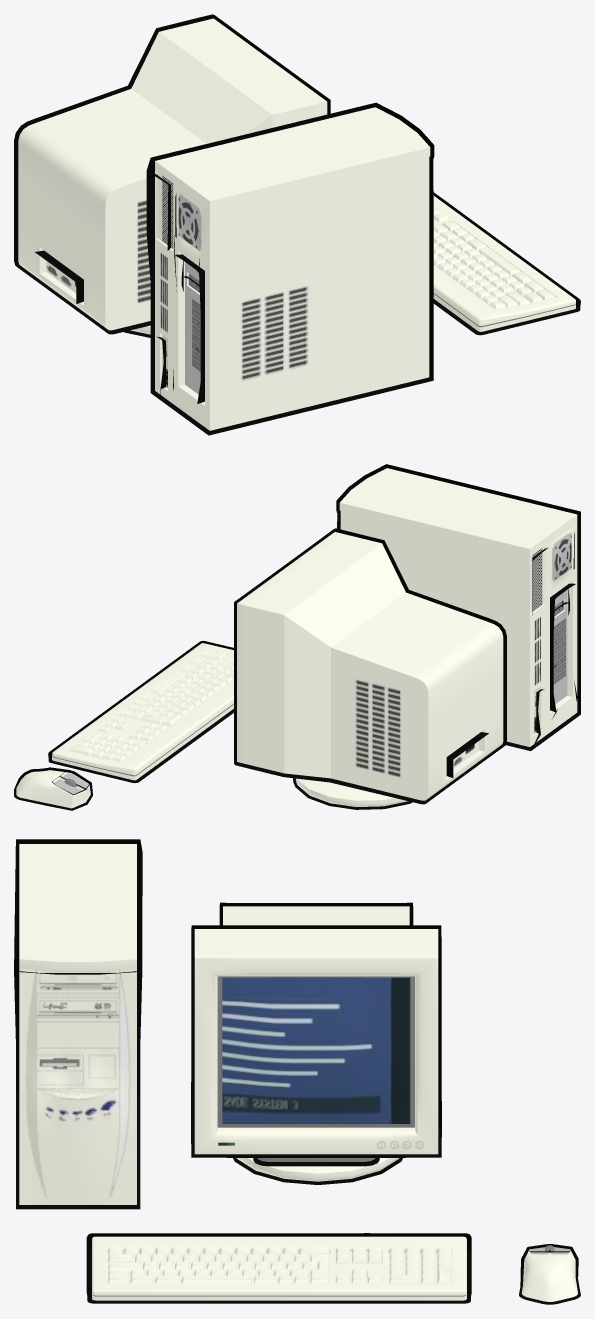
Rendered from retro_pc_tower.glb.
3 renders of one model, top to bottom at view 1: azimuth 30°, elevation 25°; view 2: azimuth 150°, elevation 25°; view 3: azimuth 270°, elevation 25°, orthographic. The views are drawn at different scales.
Parts seen in each view (by area): view 1: screen2_mac_0, tower_outline_mac_outline_0; view 2: screen2_mac_0, tower_outline_mac_outline_0; view 3: screen2_mac_0, tower_outline_mac_outline_0.
Boxes of the visible parts, x1,y1,x2,y2 form: screen2_mac_0: [18, 18, 575, 430]; tower_outline_mac_outline_0: [14, 14, 580, 435]; screen2_mac_0: [16, 468, 577, 808]; tower_outline_mac_outline_0: [14, 464, 580, 810]; screen2_mac_0: [19, 844, 577, 1301]; tower_outline_mac_outline_0: [14, 839, 580, 1304].
Size of the model in its own units: 3.83 by 2.07 by 4.17.
Materials: 2 (1 with a texture image).
